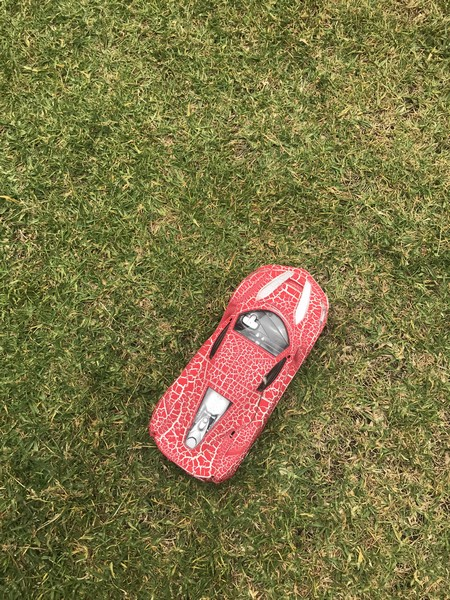RC: (146, 263, 332, 485)
